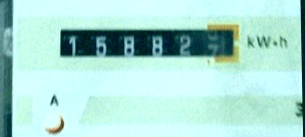1: (68, 32, 82, 55)
2: (179, 32, 195, 56)
5: (96, 32, 110, 57)
7: (209, 39, 221, 56)
8: (152, 33, 166, 57), (124, 33, 137, 56)
screen: (53, 15, 251, 74)
